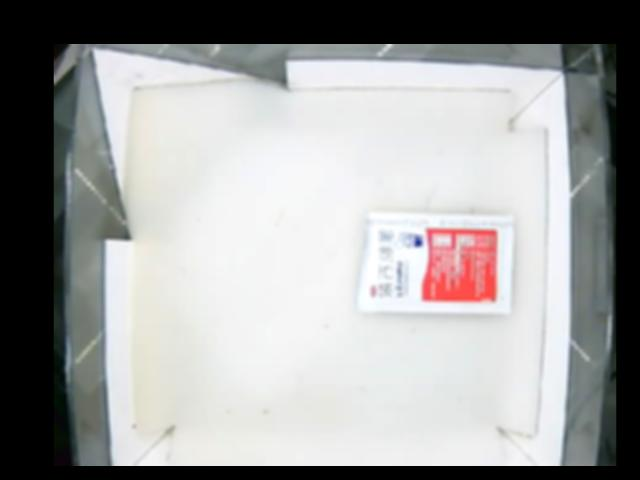Medicine: (356, 211, 516, 316)
